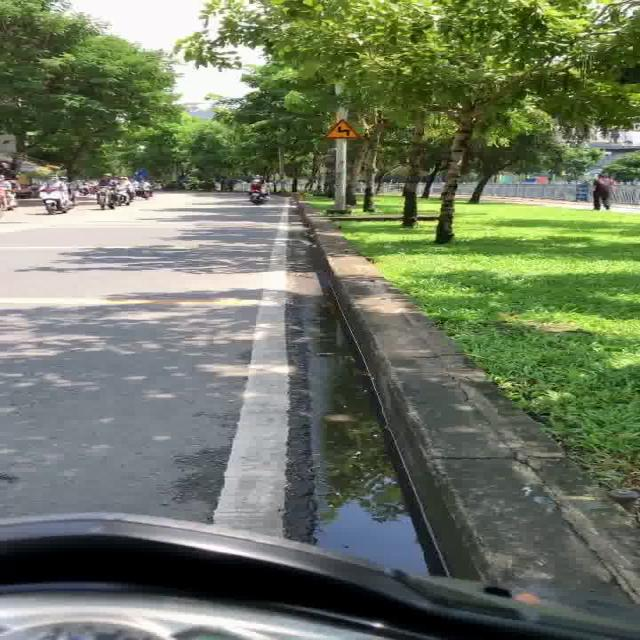Bien bao nhieu cho ngoat nguy hiem lien tiep: (322, 118, 362, 142)
